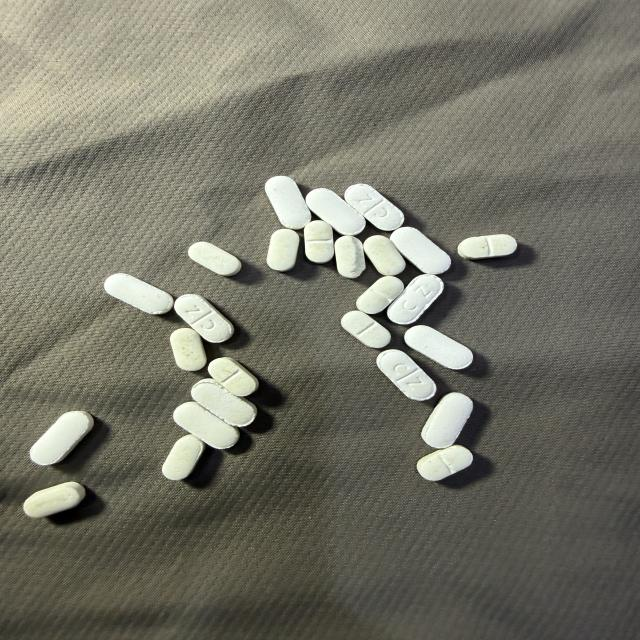pill: (30, 411, 93, 465), (174, 402, 239, 449), (192, 379, 256, 426), (405, 326, 473, 369), (377, 350, 435, 400), (391, 227, 451, 274), (422, 393, 473, 448), (345, 184, 404, 231), (175, 295, 234, 342), (104, 274, 173, 314), (306, 189, 365, 235), (388, 275, 443, 324), (265, 176, 310, 229), (24, 482, 85, 517), (208, 357, 258, 396), (162, 434, 204, 480), (417, 445, 472, 480), (341, 311, 390, 348), (188, 242, 241, 276), (356, 277, 403, 313), (363, 236, 405, 275), (170, 328, 206, 371), (458, 234, 517, 259), (267, 229, 299, 271), (335, 236, 365, 278), (304, 221, 333, 263)
